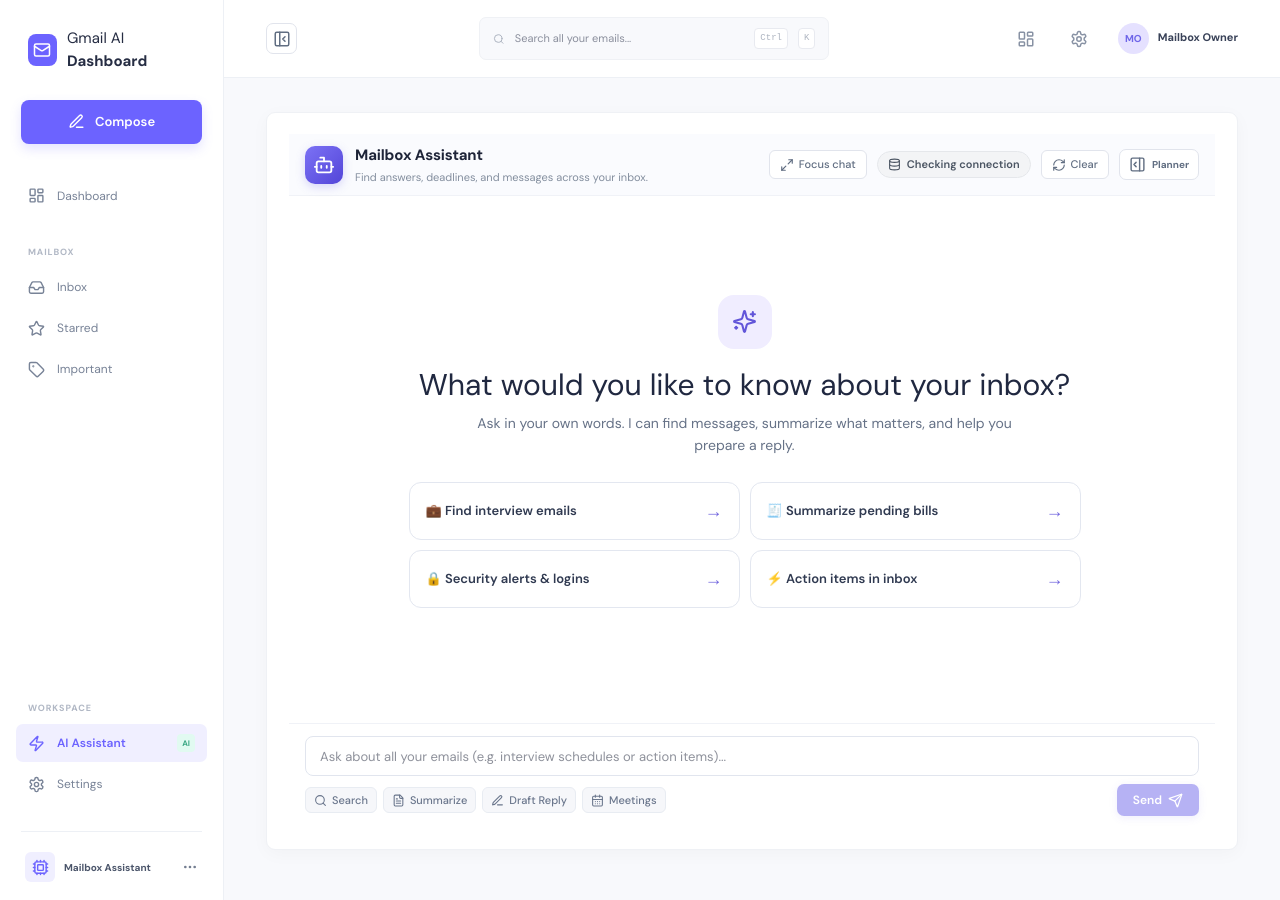
Test: renders the LLM-designed answer in an isolated frame and opens cited email
Replace the text in the text box with placeholder "Ask about all your emails" with "Search emails regarding billing" at (752,756), box [305, 736, 1199, 776]
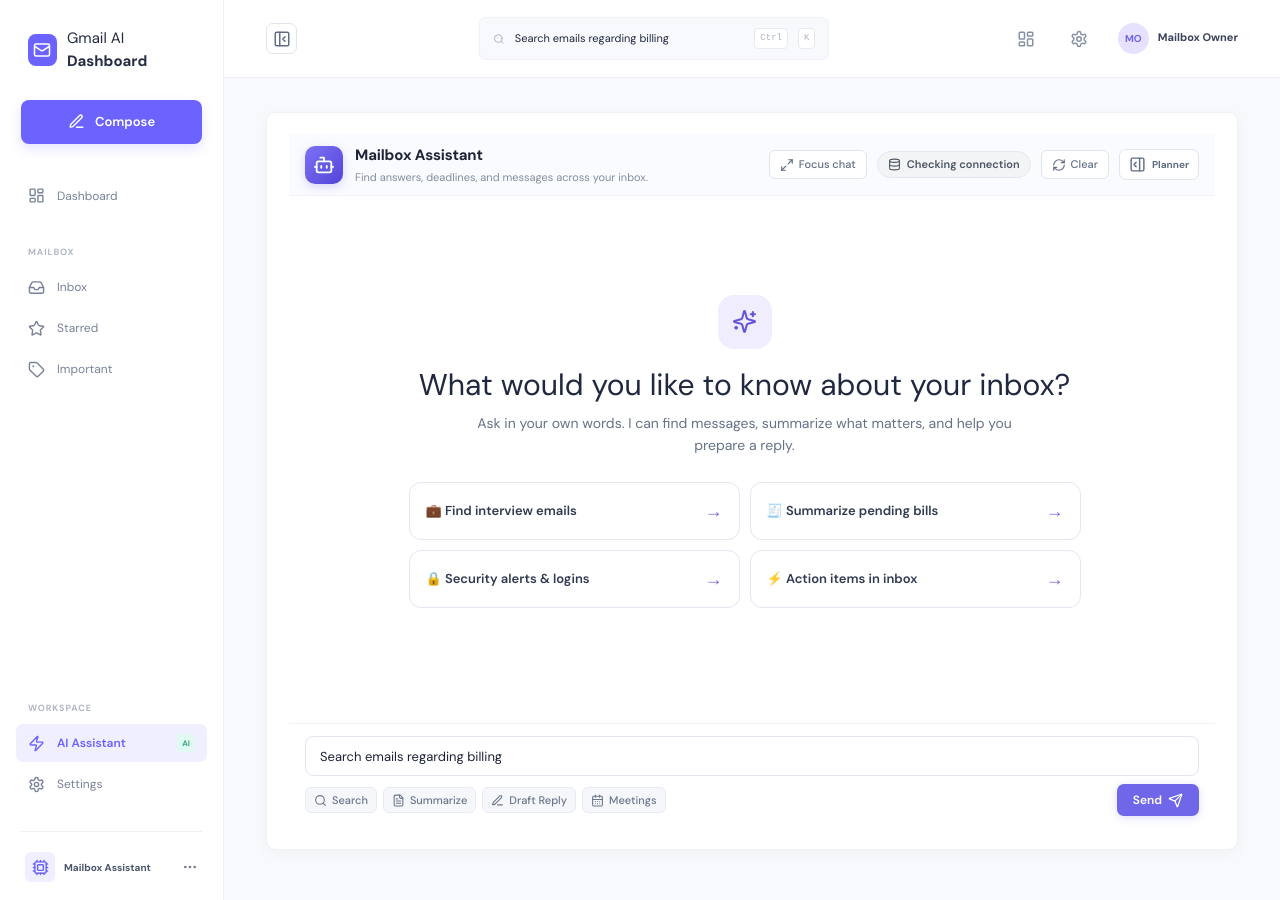
Click the button "Send".
click(1158, 800)  # box [1117, 784, 1199, 816]
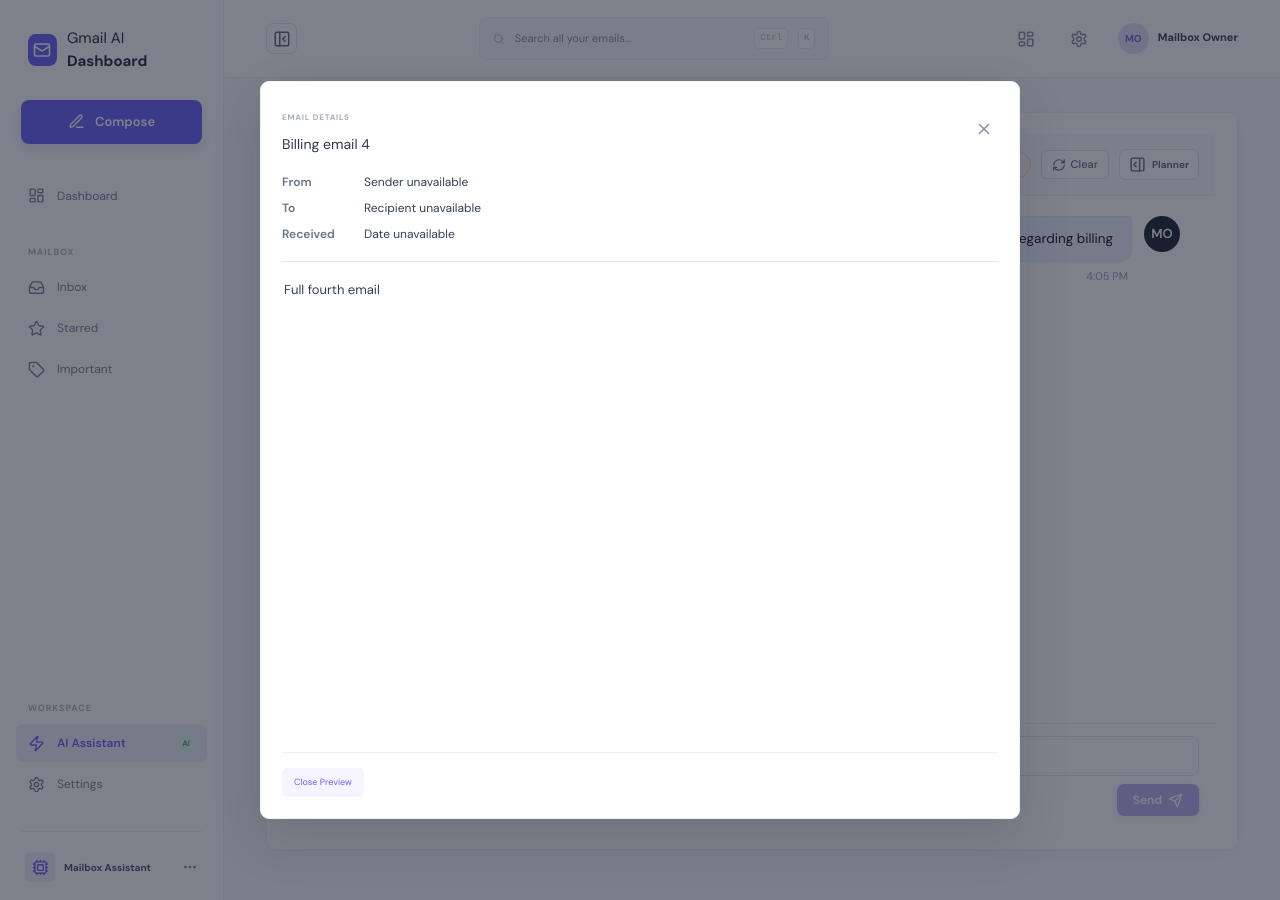
Expected: the text "Full fourth email" is shown, [284, 281, 380, 298]
